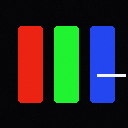3 line_h: (97, 74, 125, 76)
